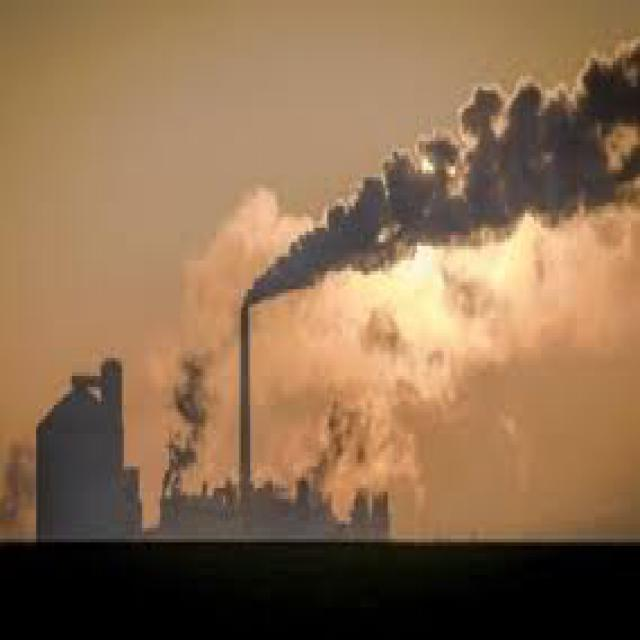Smoke: (229, 39, 640, 320)
